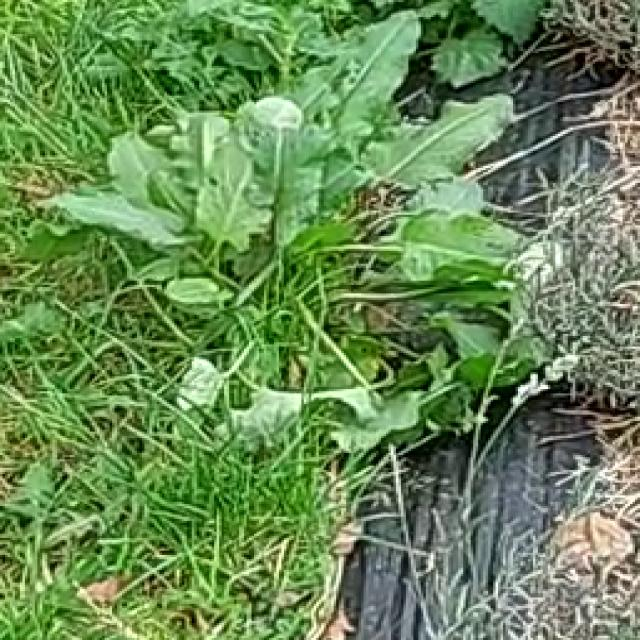organic waste: (75, 43, 588, 423)
